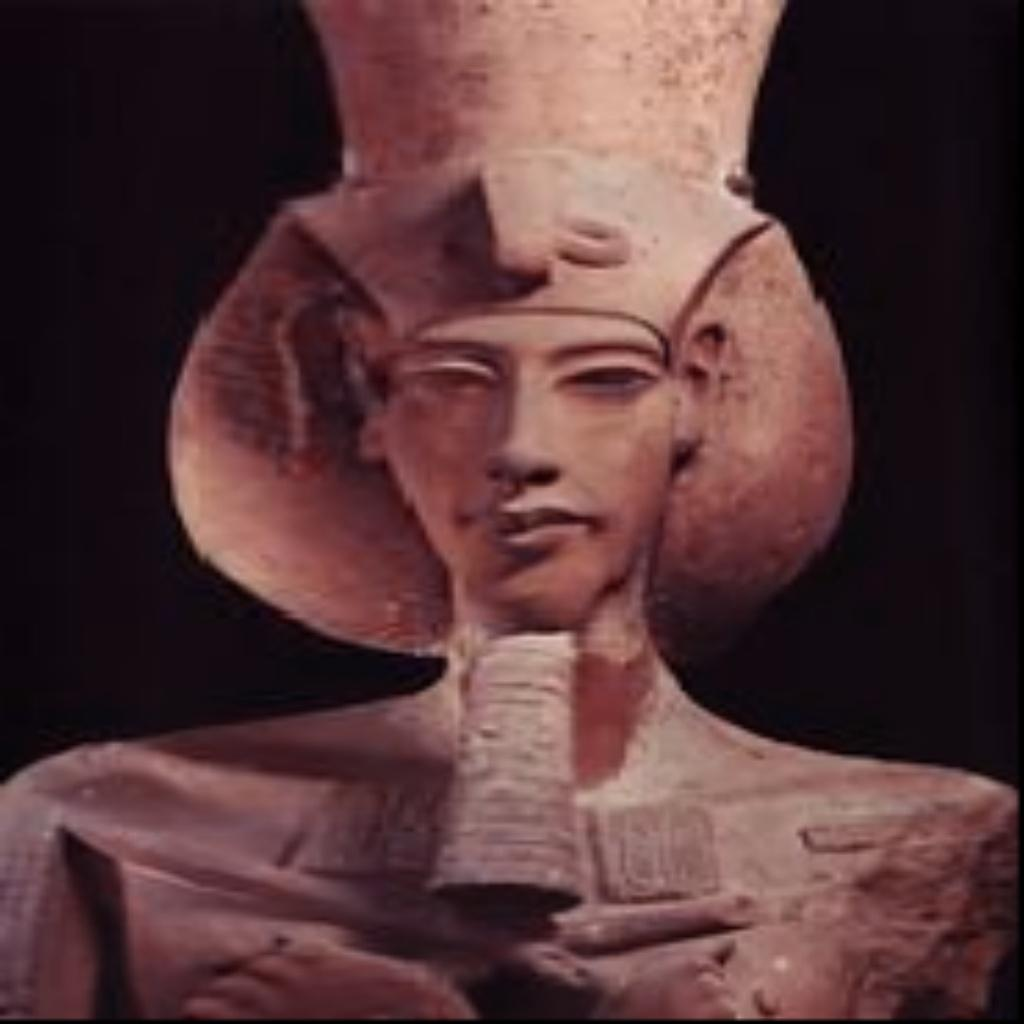Akhenaten: (0, 0, 1013, 1015)
